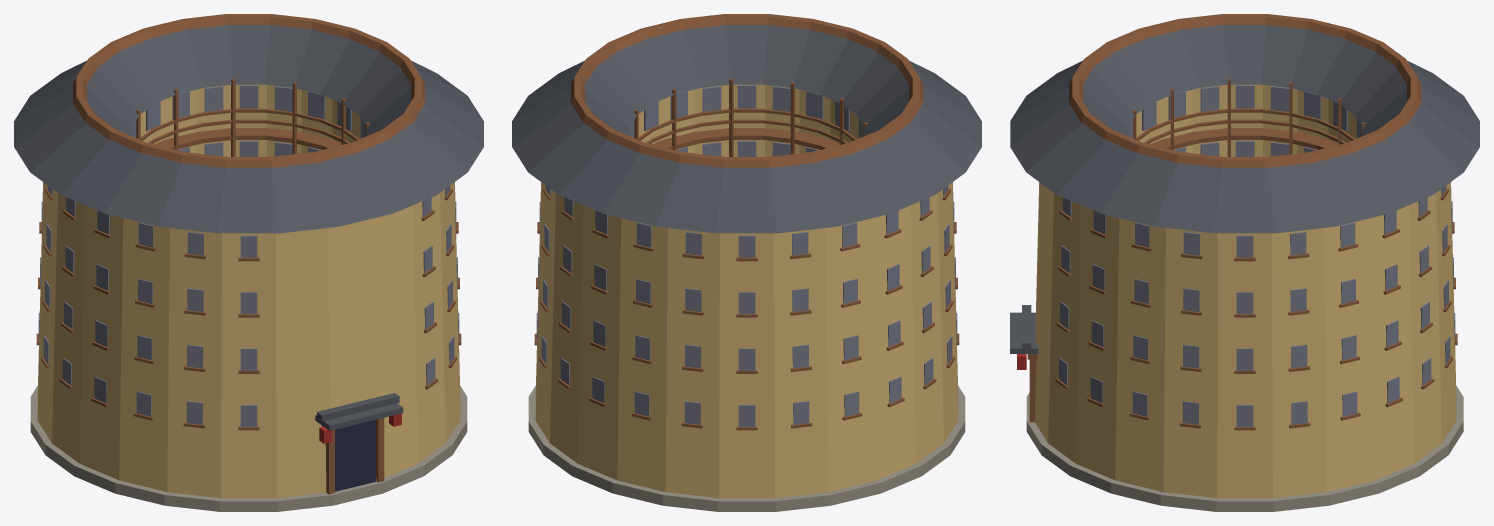
The model's file is house-2x2-5f-tulou-a.glb.
3 renders of one model, left to right at view 1: azimuth 30°, elevation 25°; view 2: azimuth 150°, elevation 25°; view 3: azimuth 270°, elevation 25°, orthographic.
Parts seen in each view (by area): view 1: house-2x2-5f-tulou-a; view 2: house-2x2-5f-tulou-a; view 3: house-2x2-5f-tulou-a.
Boxes of the visible parts, x1,y1,x2,y2 form: house-2x2-5f-tulou-a: [14, 14, 483, 511]; house-2x2-5f-tulou-a: [512, 14, 981, 511]; house-2x2-5f-tulou-a: [1010, 14, 1479, 511].
Bounding box in the file's own units: 1.98 × 1.55 × 1.98.
Materials: 1 (1 with a texture image).
